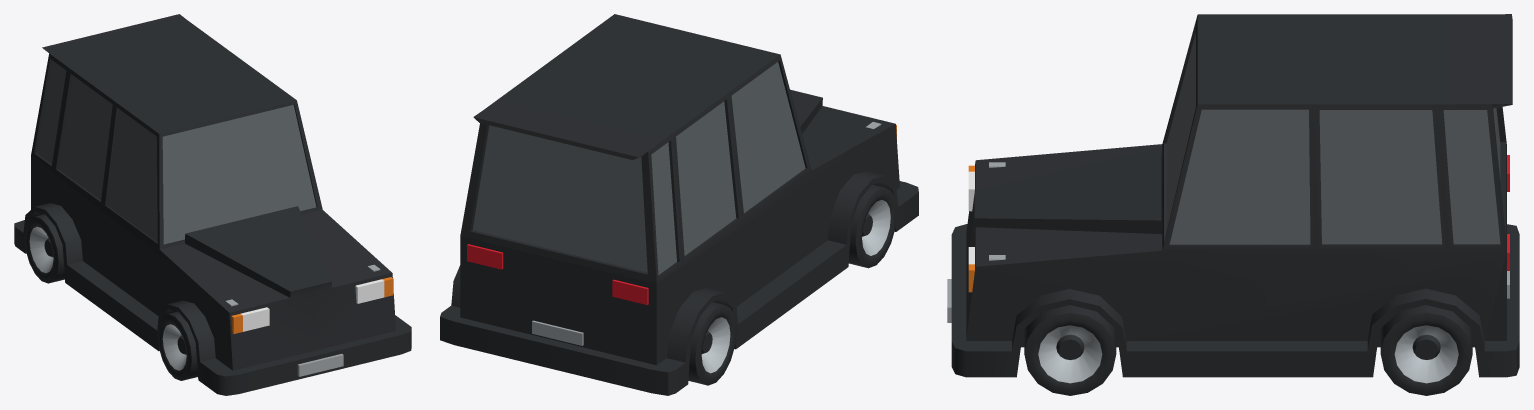
Rendered from Car_3.fbx.
3 renders of one model, left to right at view 1: azimuth 30°, elevation 25°; view 2: azimuth 150°, elevation 25°; view 3: azimuth 270°, elevation 25°, orthographic. The views are drawn at different scales.
Parts seen in each view (by area): view 1: Car3, Car3Wheel4, Car3Wheel2; view 2: Car3, Car3Wheel4, Car3Wheel2; view 3: Car3, Car3Wheel3, Car3Wheel1.
Part boxes in pixels (x1=…): Car3: x1=14, y1=14, x2=411, y2=395; Car3Wheel4: x1=24, y1=214, x2=64, y2=283; Car3Wheel2: x1=157, y1=311, x2=197, y2=380; Car3: x1=440, y1=14, x2=918, y2=395; Car3Wheel4: x1=688, y1=302, x2=736, y2=385; Car3Wheel2: x1=848, y1=184, x2=896, y2=268; Car3: x1=947, y1=14, x2=1519, y2=377; Car3Wheel3: x1=1380, y1=305, x2=1472, y2=395; Car3Wheel1: x1=1024, y1=305, x2=1116, y2=395.
Size of the model in its own units: 299 by 283 by 542.
1 material, 1 textured.
